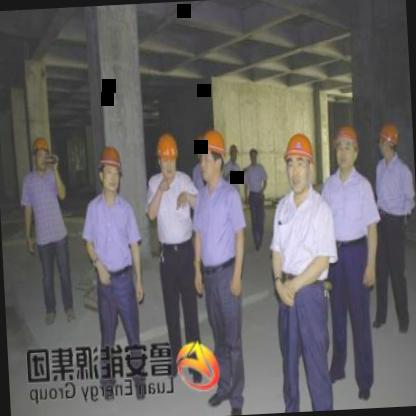head: (247, 143, 262, 167)
helmet: (280, 127, 317, 194), (194, 126, 228, 183), (95, 142, 126, 195), (332, 122, 362, 172), (153, 131, 181, 180), (374, 119, 401, 160), (28, 134, 53, 170)
